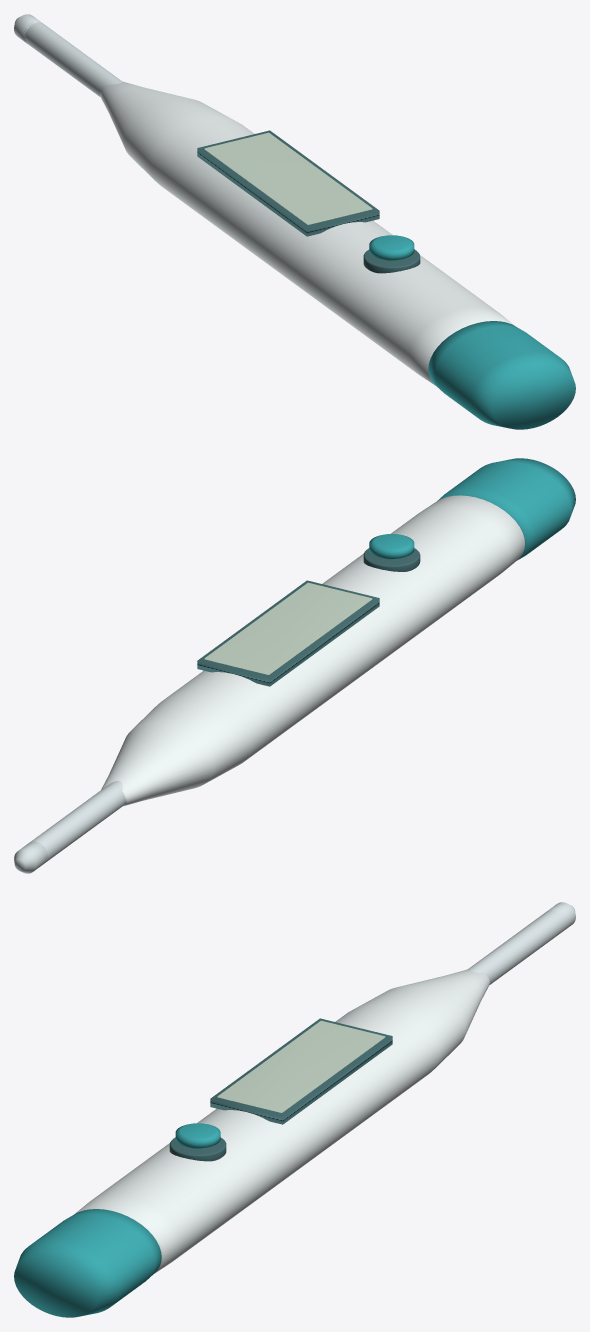
Rendered from thermometer.glb.
3 renders of one model, top to bottom at view 1: azimuth 30°, elevation 25°; view 2: azimuth 150°, elevation 25°; view 3: azimuth 330°, elevation 25°, orthographic.
Parts seen in each view (by area): view 1: Body_Shell, BatteryCap_Shell, Screen_LCD, Screen_Frame, Probe_Shaft, Button_Cap, Button_Base; view 2: Body_Shell, Screen_LCD, BatteryCap_Shell, Screen_Frame, Probe_Shaft, Button_Cap, Button_Base, Probe_Tip; view 3: Body_Shell, BatteryCap_Shell, Screen_LCD, Screen_Frame, Probe_Shaft, Button_Cap, Button_Base.
Boxes of the visible parts, left/top/right/bottom form: Body_Shell: left=100, top=81, right=515, bottom=385; BatteryCap_Shell: left=428, top=321, right=575, bottom=429; Screen_LCD: left=204, top=132, right=372, bottom=224; Screen_Frame: left=197, top=130, right=379, bottom=236; Probe_Shaft: left=23, top=21, right=122, bottom=96; Button_Cap: left=369, top=235, right=414, bottom=260; Button_Base: left=363, top=249, right=420, bottom=273; Body_Shell: left=101, top=495, right=524, bottom=806; Screen_LCD: left=204, top=582, right=372, bottom=674; BatteryCap_Shell: left=437, top=458, right=575, bottom=560; Screen_Frame: left=197, top=580, right=379, bottom=686; Probe_Shaft: left=29, top=781, right=125, bottom=862; Button_Cap: left=369, top=534, right=414, bottom=558; Button_Base: left=363, top=548, right=420, bottom=571; Probe_Tip: left=14, top=841, right=47, bottom=873; Body_Shell: left=74, top=969, right=489, bottom=1273; BatteryCap_Shell: left=14, top=1209, right=161, bottom=1317; Screen_LCD: left=217, top=1020, right=385, bottom=1112; Screen_Frame: left=210, top=1018, right=392, bottom=1124; Probe_Shaft: left=467, top=909, right=566, bottom=984; Button_Cap: left=175, top=1123, right=220, bottom=1148; Button_Base: left=169, top=1137, right=226, bottom=1161.
Size of what is drawn, in the model's own units: 0.018 by 0.0149 by 0.159.
